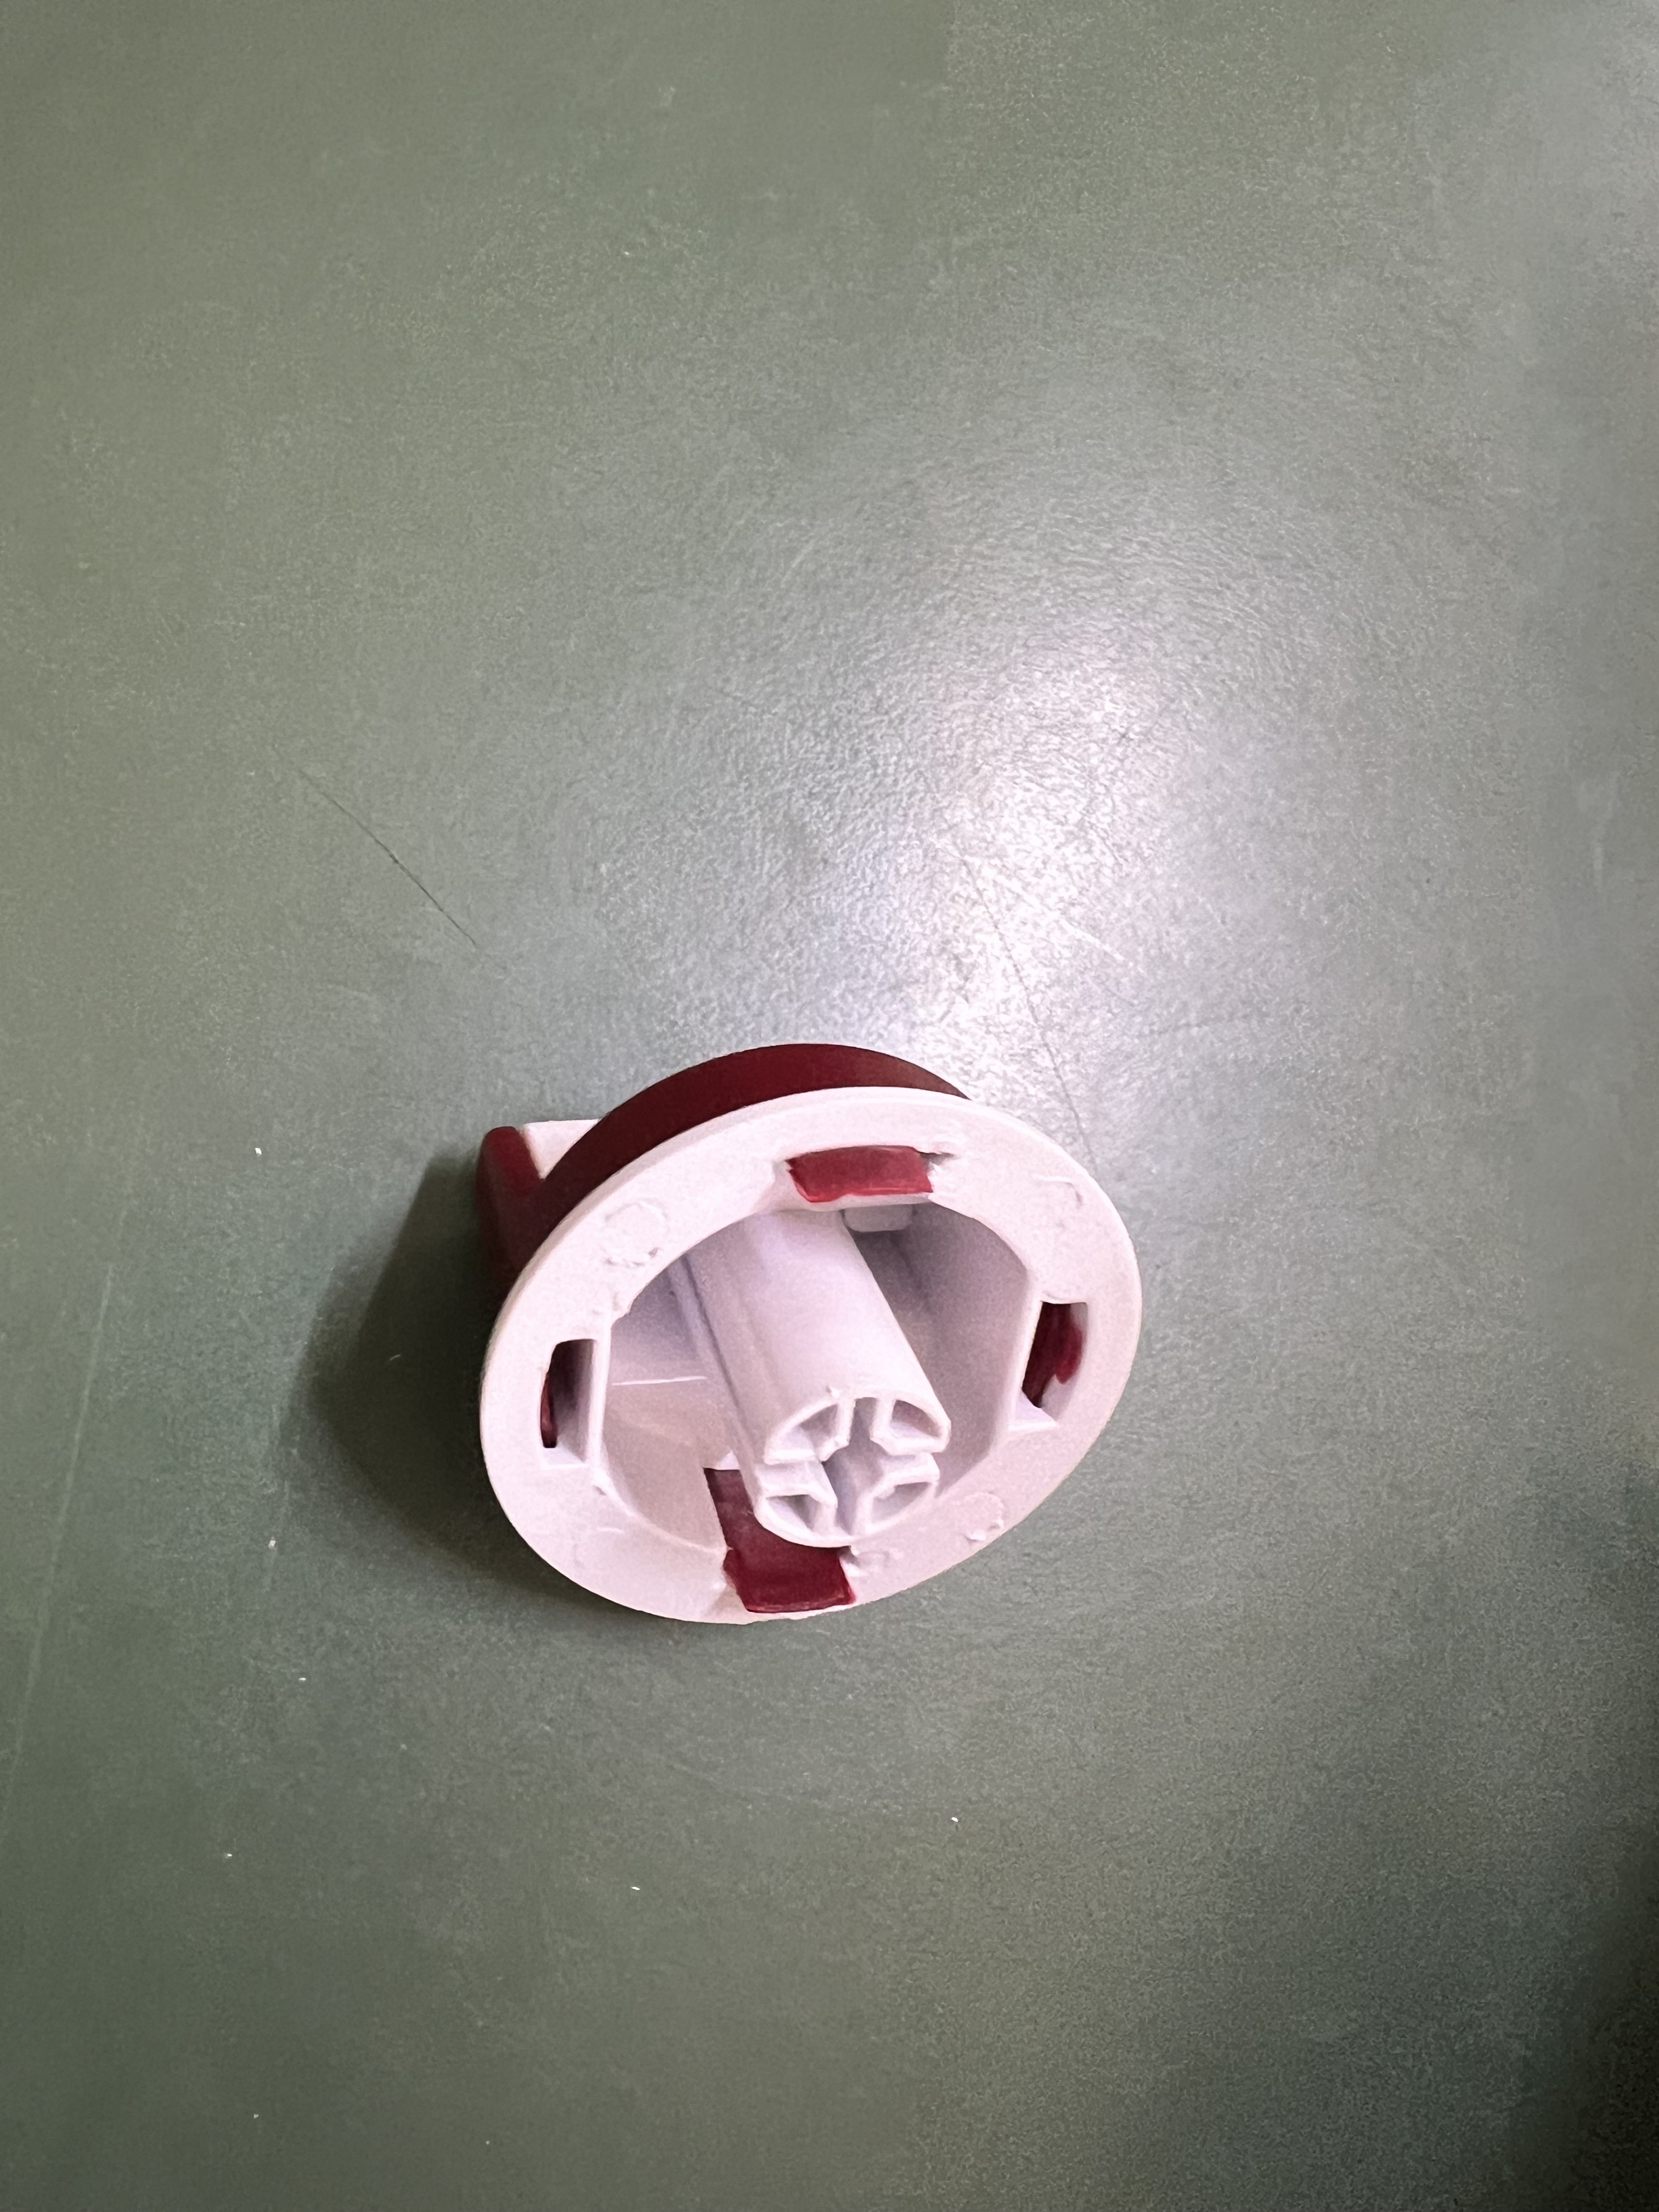regulator: (418, 1005, 1155, 1663)
